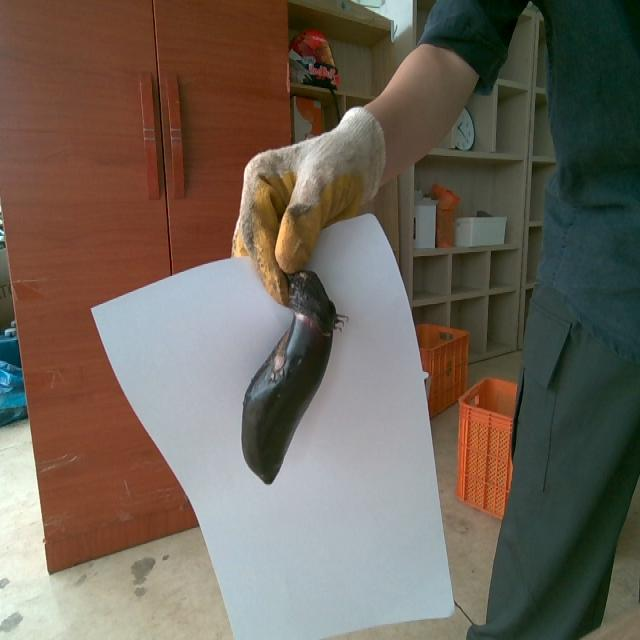Egg plant: (241, 271, 337, 483)
